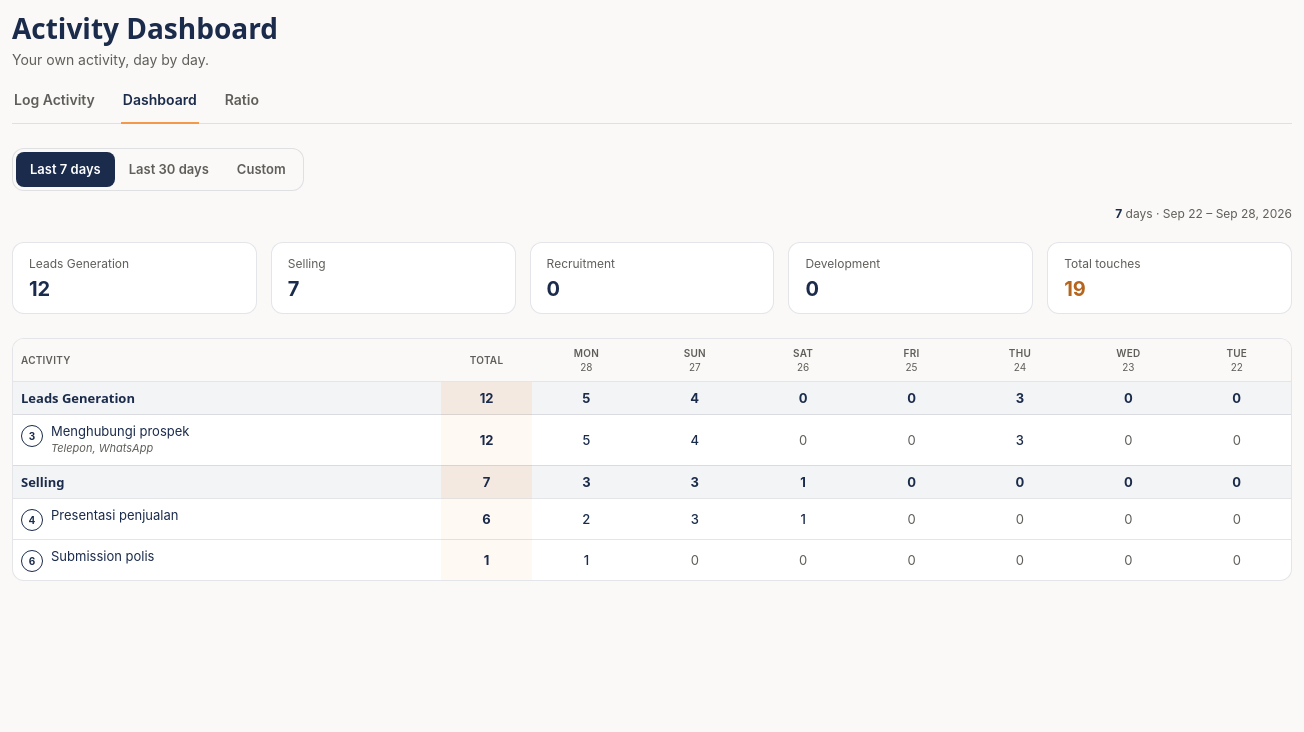
Scenario: the Activity Dashboard (P10-T1) › AC-3: shows the server’s reason when it refuses a range — a year at most
Expected: the text "Menghubungi prospek" is shown, [51,423,189,439]
Click the tab "Custom".
click(261, 170)  # box [223,152,300,187]
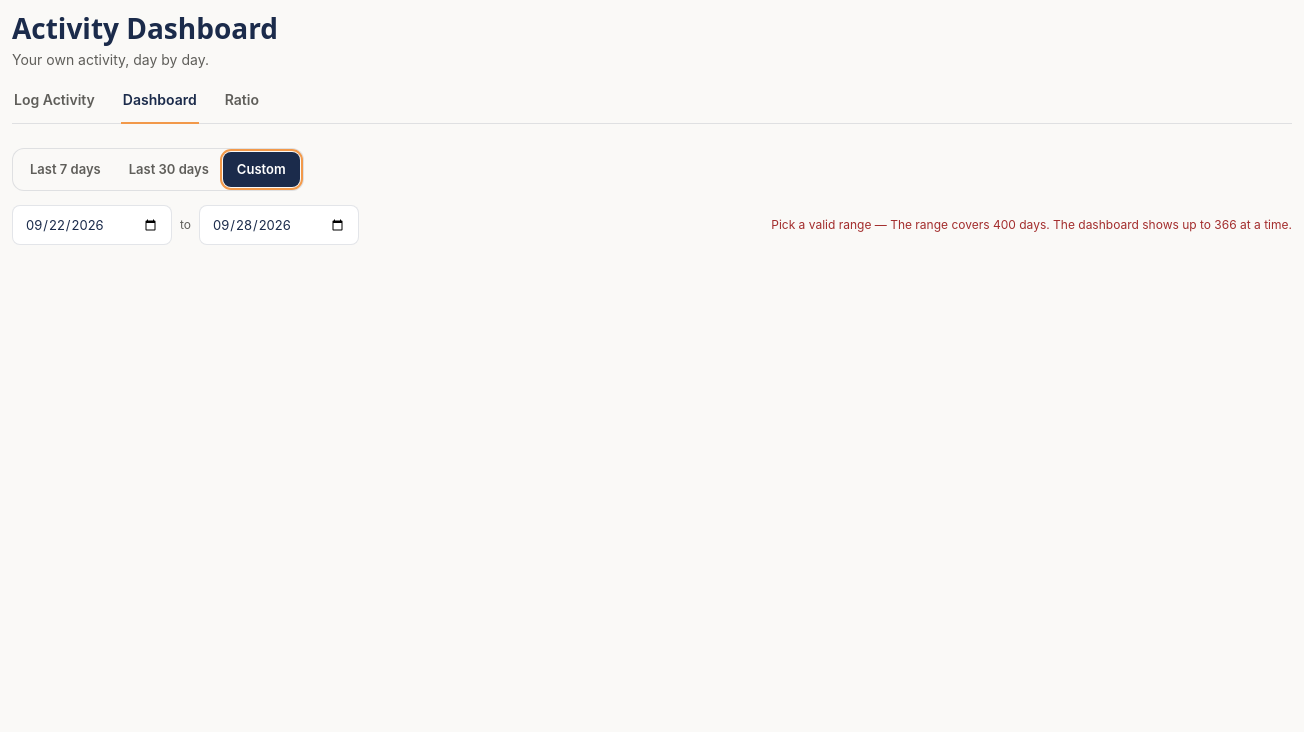
Result: the text "Pick a valid range — The range covers 400 days" is shown at [771,217,1292,232]
